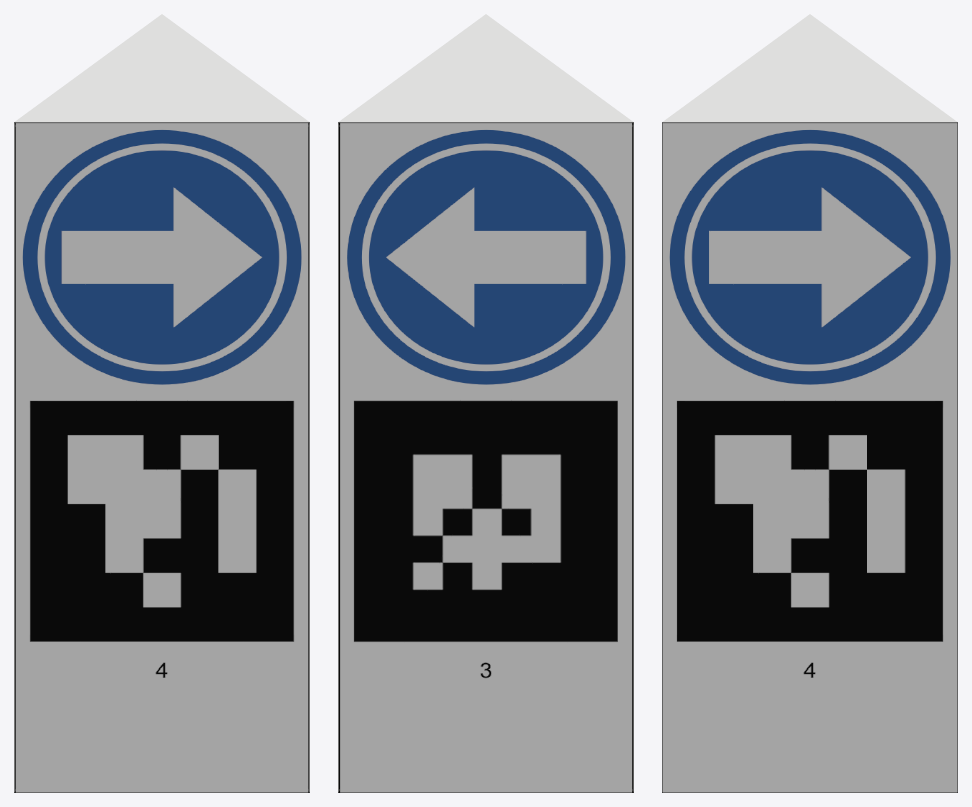
File: turn_obstacle.dae
3 views of the same model, side by side, from view 1: azimuth 30°, elevation 25°; view 2: azimuth 150°, elevation 25°; view 3: azimuth 270°, elevation 25° (orthographic).
Visible parts, largest first — view 1: Body2; view 2: Body2; view 3: Body2.
Part boxes in pixels (box(x1,y1,x2,y2)): Body2: box(14, 14, 309, 792); Body2: box(338, 14, 633, 792); Body2: box(662, 14, 957, 792).
Bounding box in the file's own units: 0.0866 × 0.1 × 0.25.
Materials: 3 (2 with a texture image).
